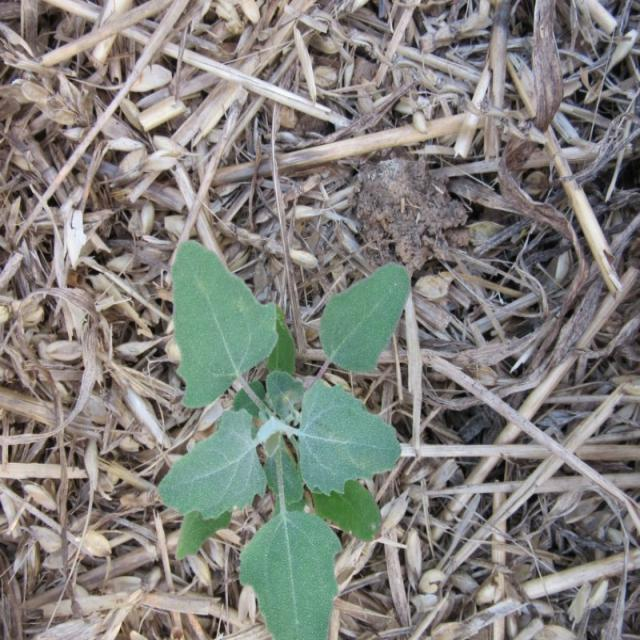ca: (160, 240, 407, 640)
